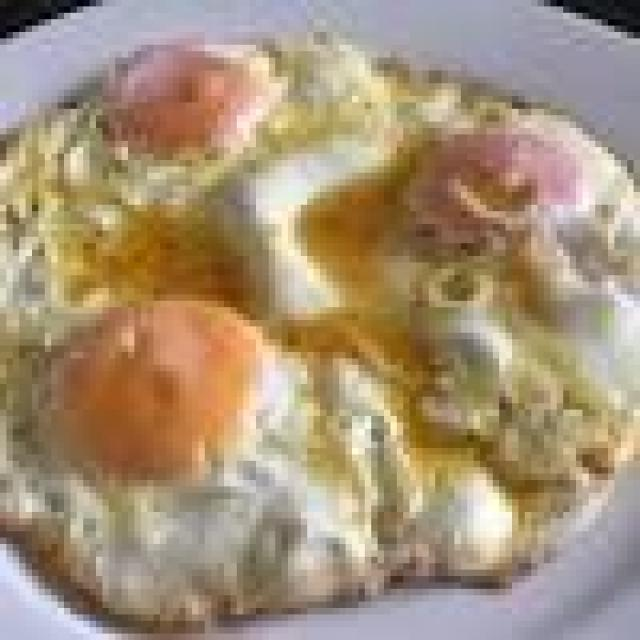Egg: (0, 31, 640, 623)
